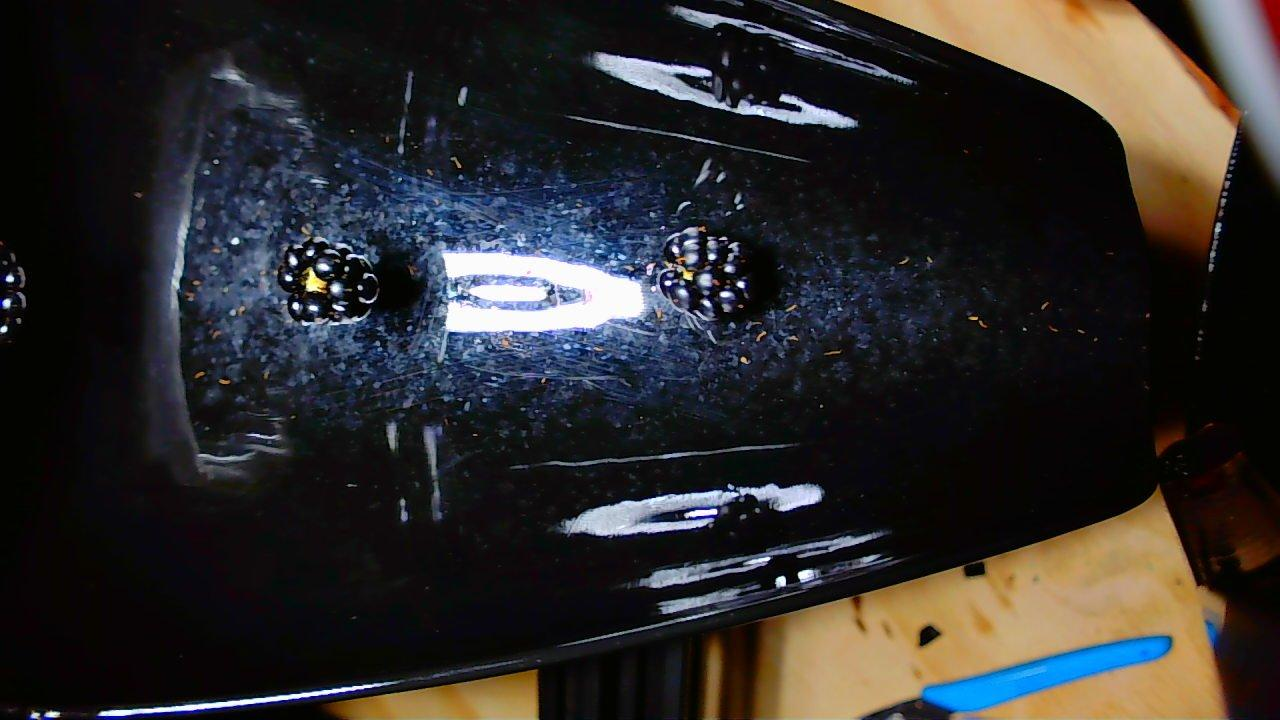berry: (655, 227, 753, 320), (277, 237, 380, 322), (0, 243, 25, 340)
